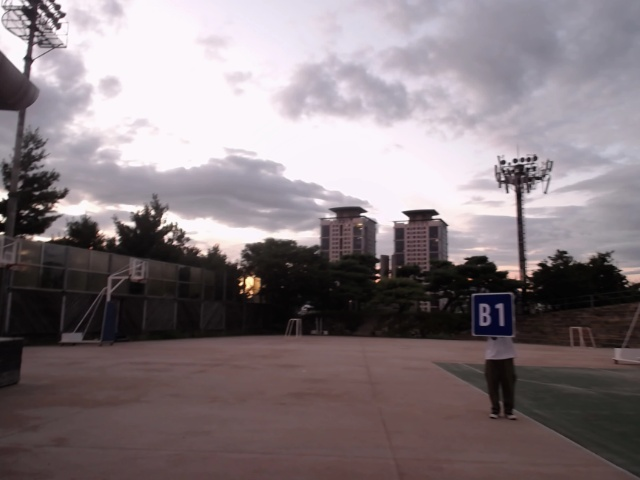delivery_b1: (470, 293, 515, 337)
